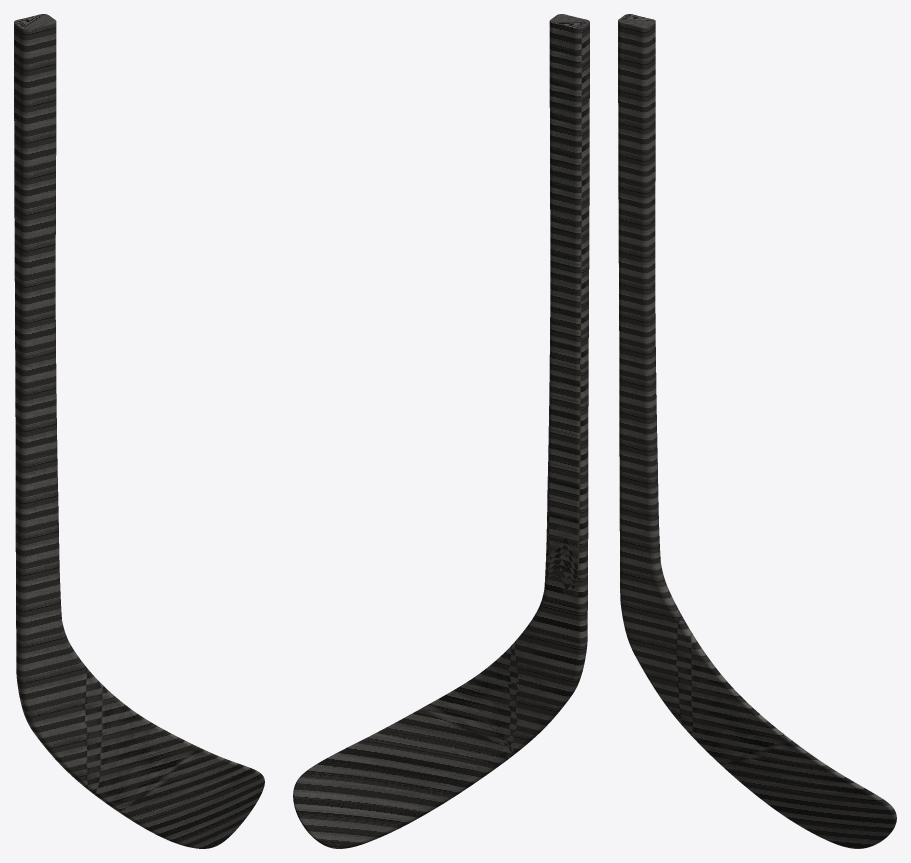
File: P84-SBT.glb
The picture shows the model from 3 angles, left to right: view 1: azimuth 30°, elevation 25°; view 2: azimuth 150°, elevation 25°; view 3: azimuth 330°, elevation 25°; orthographic projection. The views are drawn at different scales.
Visible parts, largest first — view 1: geometry_0; view 2: geometry_0; view 3: geometry_0.
Boxes of the visible parts, x1,y1,x2,y2 form: geometry_0: [14, 14, 264, 848]; geometry_0: [293, 14, 589, 848]; geometry_0: [618, 14, 896, 848].
Size of the model in its own units: 241 by 746 by 65.01.
1 material, 1 textured.
